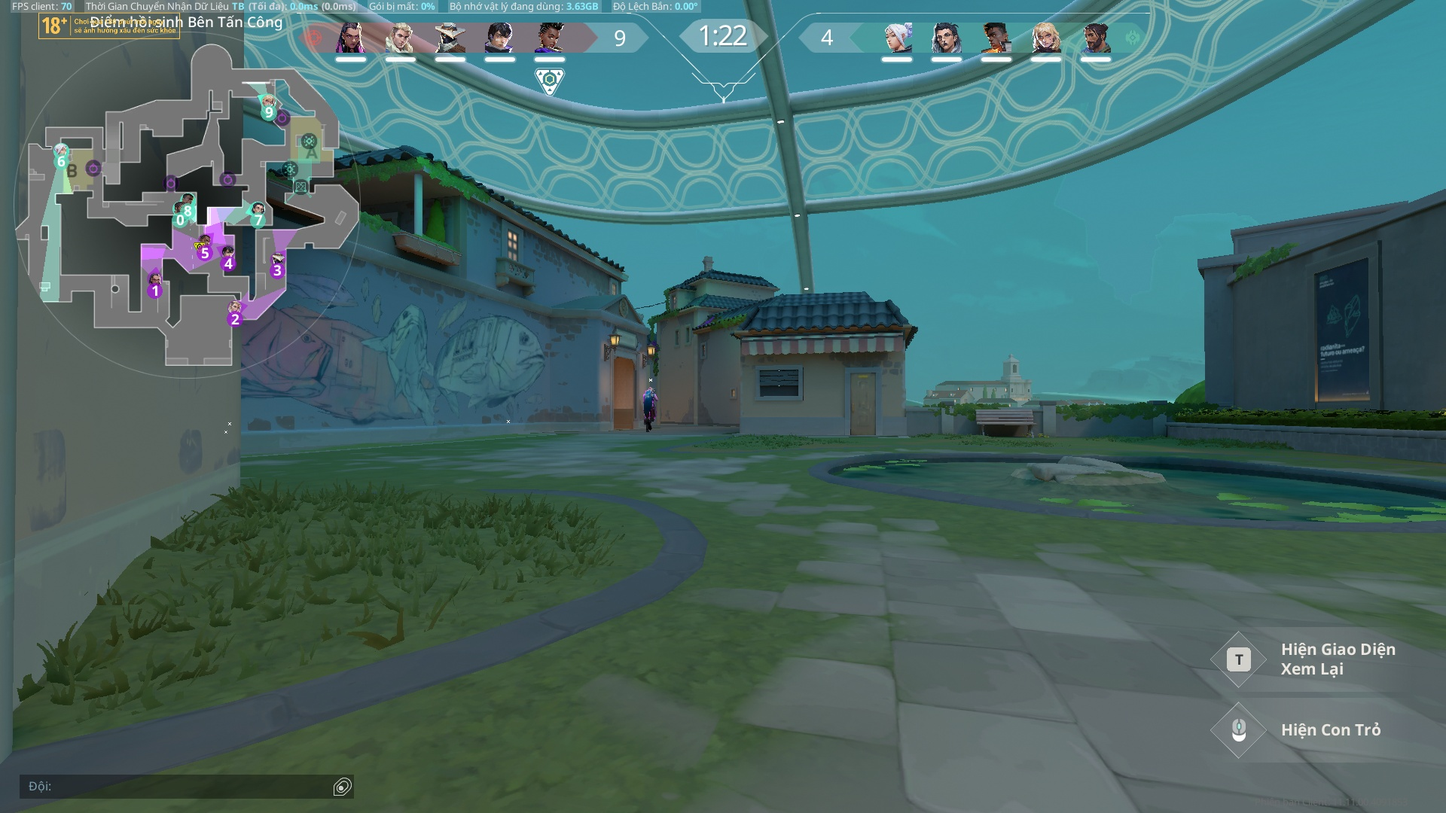body: (643, 391, 657, 404)
head: (648, 385, 654, 392)
